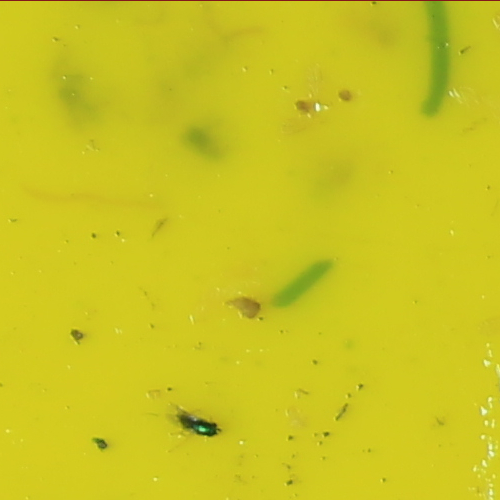wasp: (177, 411, 222, 434)
